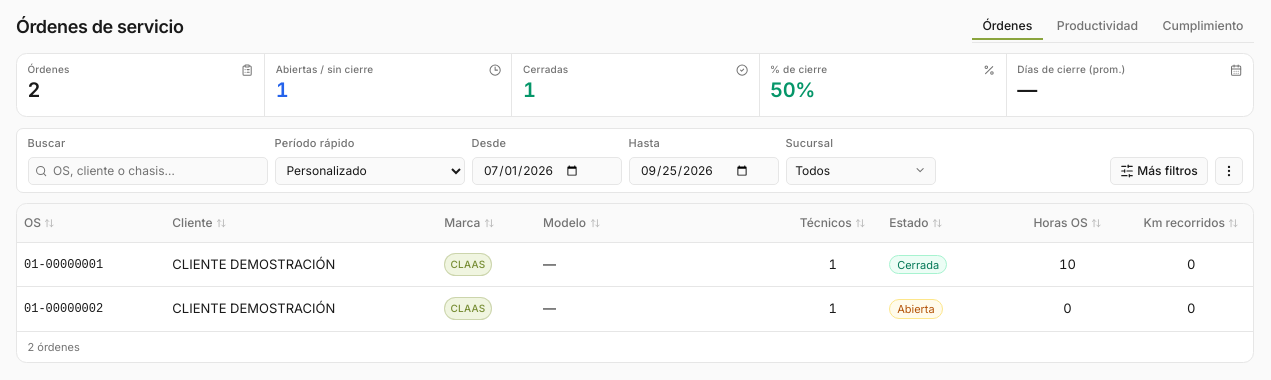
orders workspace › defaults to July through today, keeps manual dates, and resets the whole filter set
Later steps or results of the test are not shown.
Expected: the date field below "Hasta" holds "2026-09-25", 628,156 -> 778,184
Expected: the dropdown named "Período rápido" shows "Personalizado", 274,156 -> 464,184
Type "2026-08-03" into the date field below "Desde" at x=546, y=170, box 472,156 -> 622,184
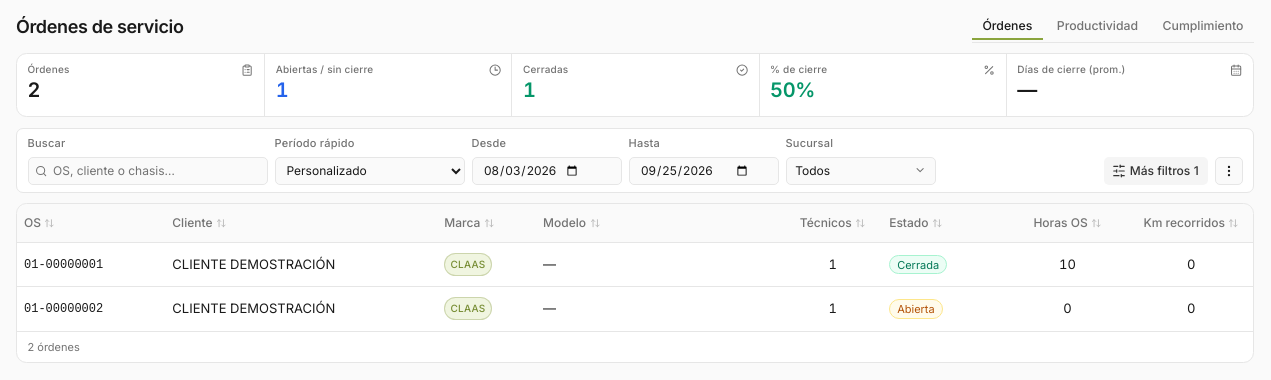
Select "Este mes" in the dropdown named "Período rápido" at x=370, y=170, box 274,156 -> 464,184
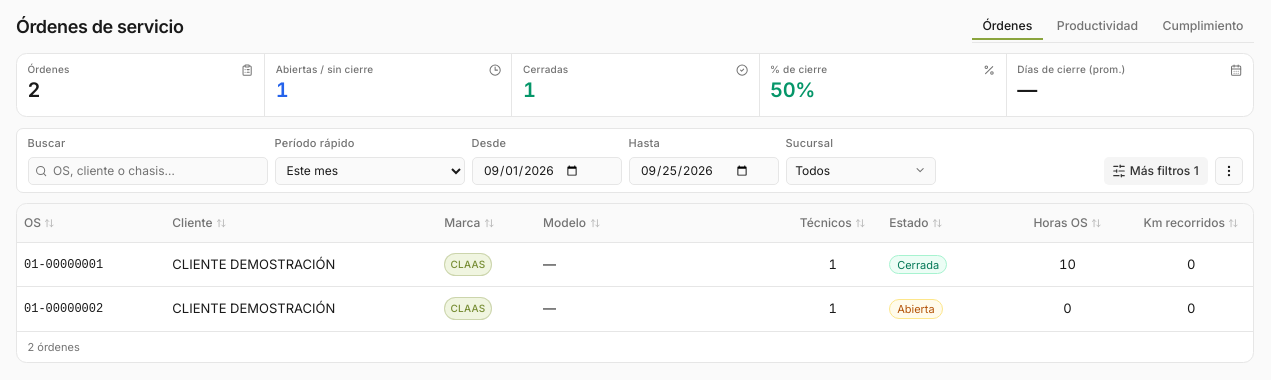
Expected: the date field below "Hasta" holds "2026-09-25", 628,156 -> 778,184
Expected: the date field below "Desde" holds "2026-09-01", 472,156 -> 622,184
